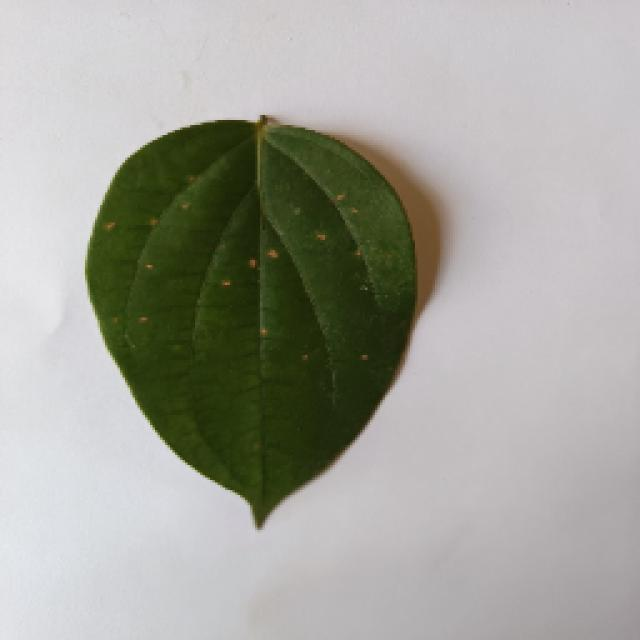pollu-disease: (78, 113, 418, 525)
